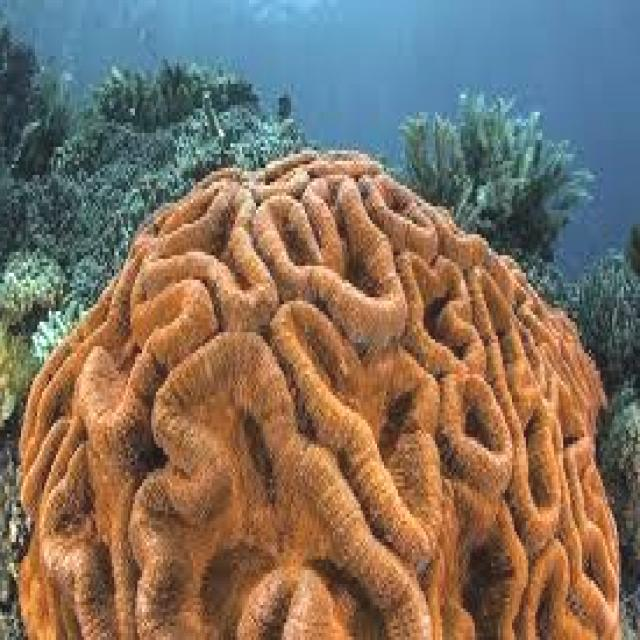Coral: (14, 144, 620, 640)
